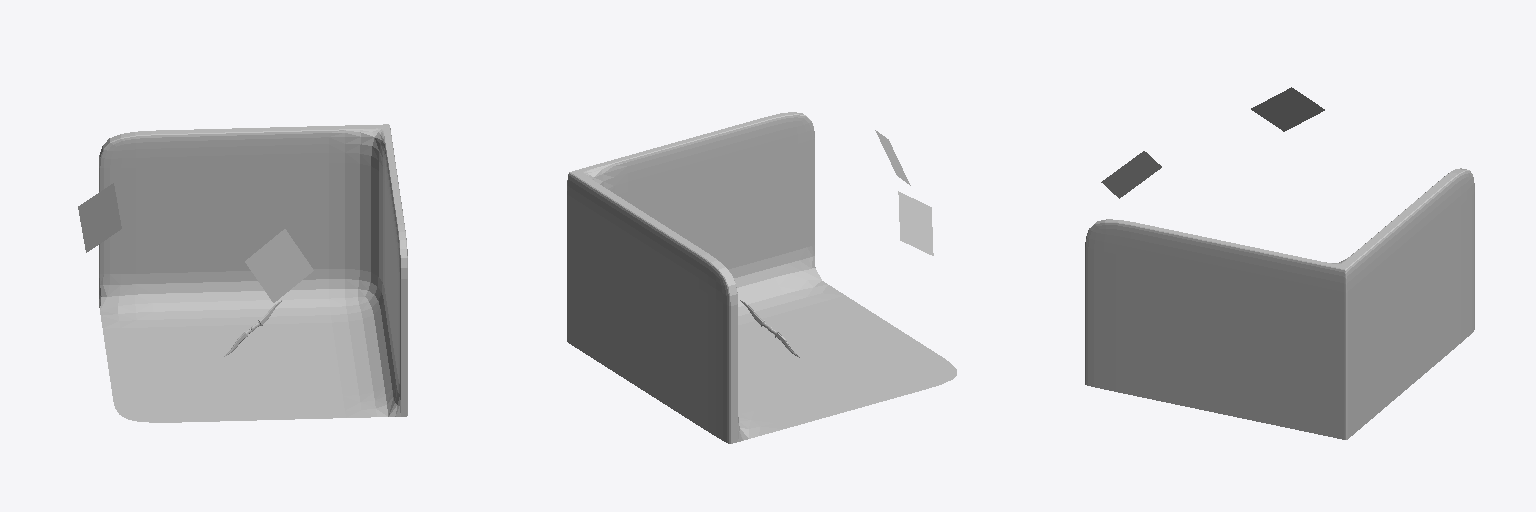
File: dhsword.obj
The picture shows the model from 3 angles: view 1: azimuth 30°, elevation 25°; view 2: azimuth 150°, elevation 25°; view 3: azimuth 270°, elevation 25°; orthographic projection.
Visible parts, largest first — view 1: Plane, Plane.001, Plane.002; view 2: Plane, Plane.002; view 3: Plane, Plane.002, Plane.001.
Part boxes in pixels (left/top/right/bottom): Plane: left=99, top=124, right=407, bottom=422; Plane.001: left=245, top=229, right=313, bottom=302; Plane.002: left=78, top=183, right=121, bottom=252; Plane: left=567, top=112, right=956, bottom=443; Plane.002: left=898, top=191, right=933, bottom=255; Plane: left=1085, top=168, right=1474, bottom=439; Plane.002: left=1251, top=87, right=1324, bottom=131; Plane.001: left=1101, top=151, right=1161, bottom=198.
Bounding box in the file's own units: 38.33 × 22.33 × 38.57.